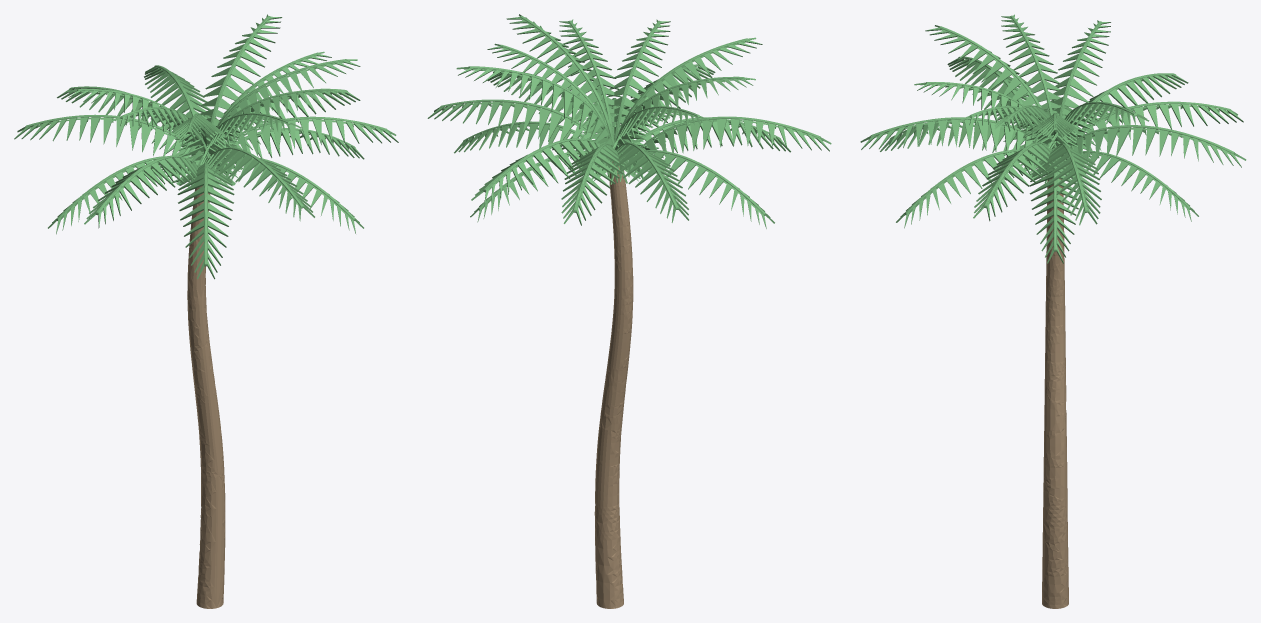
File: Palm_Tree_v10.glb
The picture shows the model from 3 angles, left to right: view 1: azimuth 30°, elevation 25°; view 2: azimuth 150°, elevation 25°; view 3: azimuth 270°, elevation 25°; orthographic projection.
Visible parts, largest first — view 1: PalmLeaves, PalmTrunk; view 2: PalmLeaves, PalmTrunk; view 3: PalmLeaves, PalmTrunk.
Boxes of the visible parts, <box> form: PalmLeaves: <box>14,14,398,279</box>; PalmTrunk: <box>187,186,225,608</box>; PalmLeaves: <box>427,14,831,228</box>; PalmTrunk: <box>594,161,633,608</box>; PalmLeaves: <box>860,14,1246,263</box>; PalmTrunk: <box>1042,178,1068,608</box>.
Bounding box in the file's own units: 3.53 × 5.4 × 3.51.
